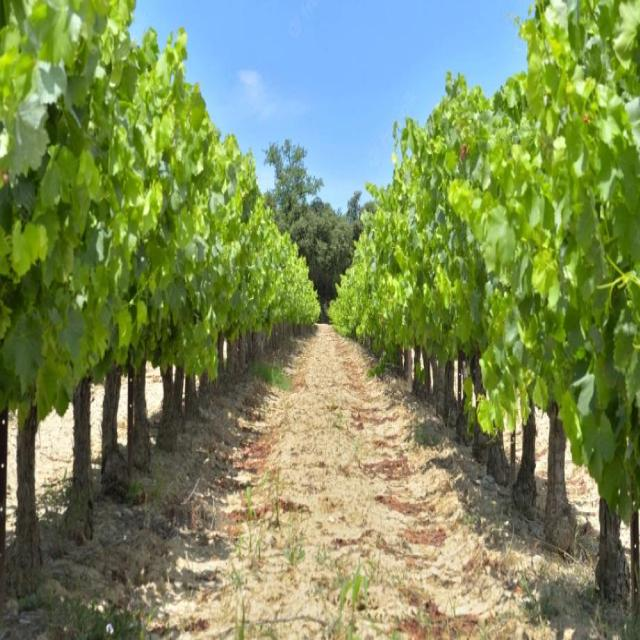row: (3, 325, 631, 640)
